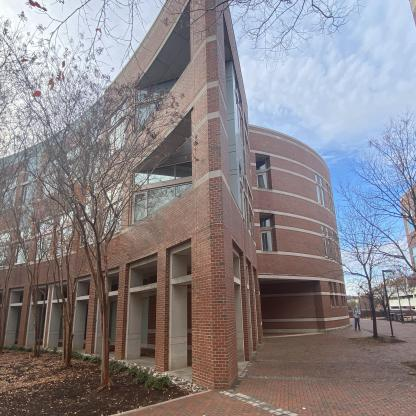EB-1: (12, 64, 364, 361)
